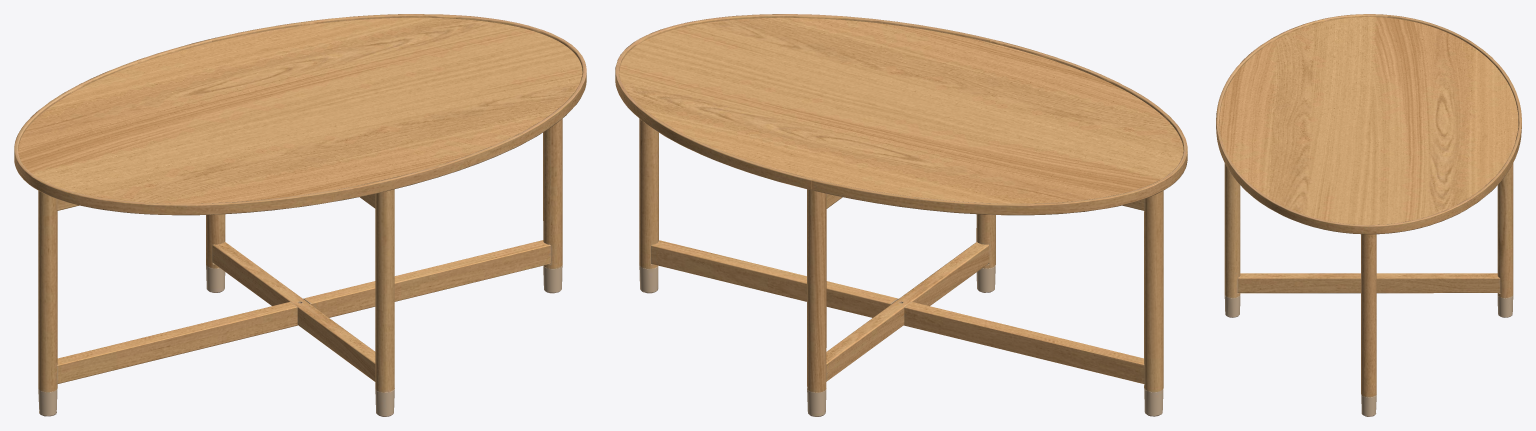
Rendered from valnas_stolik_kawowy_20628038.glb.
3 views of the same model, side by side, from view 1: azimuth 30°, elevation 25°; view 2: azimuth 150°, elevation 25°; view 3: azimuth 270°, elevation 25° (orthographic). The views are drawn at different scales.
Parts seen in each view (by area): view 1: valnas_stolik_kawowy_20628038; view 2: valnas_stolik_kawowy_20628038; view 3: valnas_stolik_kawowy_20628038.
Part boxes in pixels (box(x1,y1,x2,y2)): valnas_stolik_kawowy_20628038: box(14, 14, 586, 416); valnas_stolik_kawowy_20628038: box(615, 14, 1187, 416); valnas_stolik_kawowy_20628038: box(1216, 14, 1521, 416).
Bounding box in the file's own units: 1.18 × 0.5035 × 0.7155.
1 material, 1 textured.
